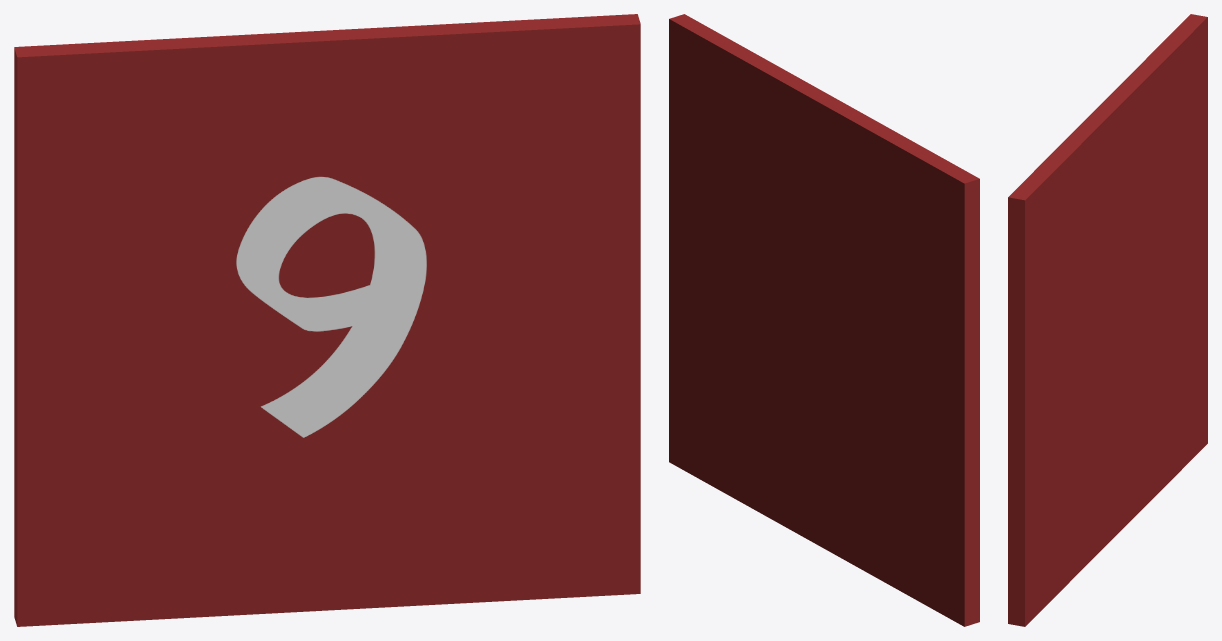
File: flap08.glb
The picture shows the model from 3 angles, left to right: view 1: azimuth 30°, elevation 25°; view 2: azimuth 150°, elevation 25°; view 3: azimuth 270°, elevation 25°; orthographic projection. The views are drawn at different scales.
Visible parts, largest first — view 1: flap.008; view 2: flap.008; view 3: flap.008.
Boxes of the visible parts, left/top/right/bottom form: flap.008: left=14, top=14, right=640, bottom=626; flap.008: left=669, top=14, right=979, bottom=626; flap.008: left=1008, top=14, right=1207, bottom=626.
Bounding box in the file's own units: 0.2342 × 0.25 × 0.1061.
Materials: 1 (1 with a texture image).
